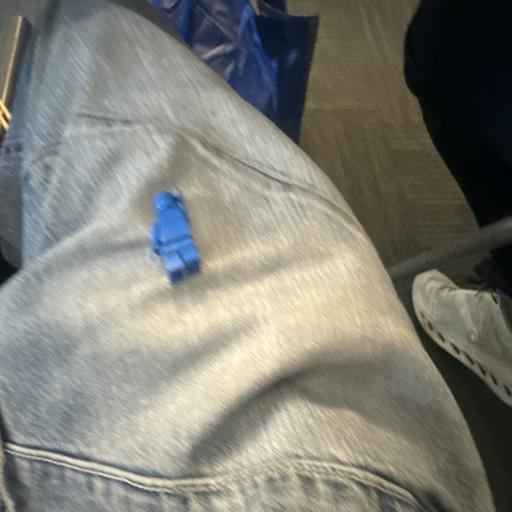Minifig: (150, 190, 200, 284)
